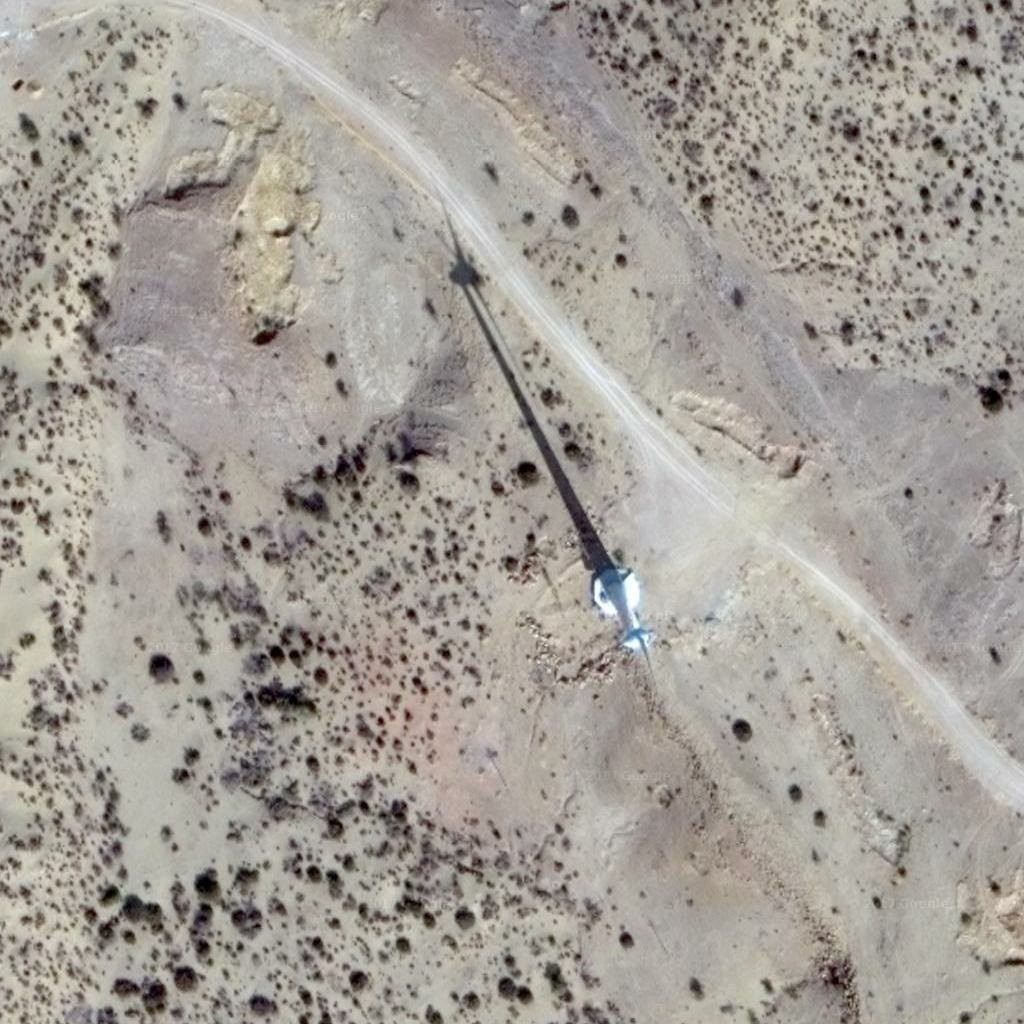Windmill: (422, 195, 654, 569)
